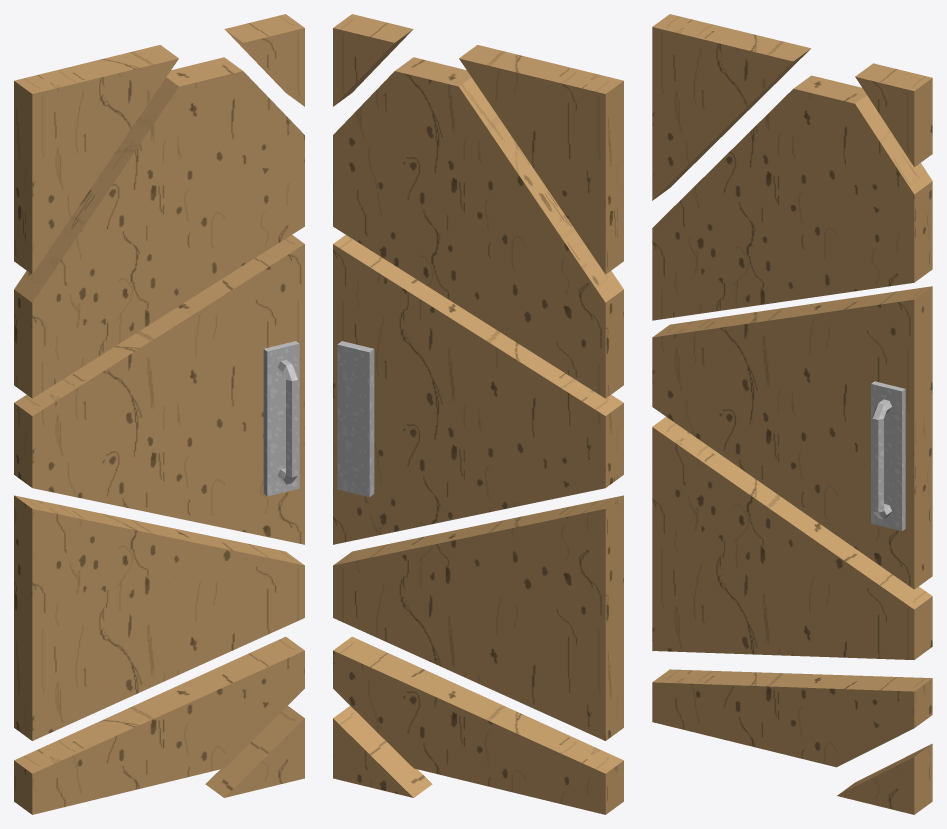
File: Door.fbx
3 renders of one model, left to right at view 1: azimuth 30°, elevation 25°; view 2: azimuth 150°, elevation 25°; view 3: azimuth 330°, elevation 25°, orthographic. The views are drawn at different scales.
Parts seen in each view (by area): view 1: polySurface17, polySurface19, polySurface25, polySurface27, polySurface13, polySurface26, polySurface15, polySurface23, polySurface22; view 2: polySurface17, polySurface19, polySurface25, polySurface27, polySurface13, polySurface23, polySurface26, polySurface15; view 3: polySurface19, polySurface17, polySurface25, polySurface27, polySurface13, polySurface15, polySurface26, polySurface23, polySurface22.
Boxes of the visible parts, <box> form: polySurface17: <box>14,57,304,398</box>; polySurface19: <box>14,235,304,544</box>; polySurface25: <box>14,495,304,740</box>; polySurface27: <box>14,636,304,814</box>; polySurface13: <box>14,45,178,274</box>; polySurface26: <box>205,706,304,797</box>; polySurface15: <box>224,14,304,106</box>; polySurface23: <box>263,341,299,496</box>; polySurface22: <box>277,360,297,484</box>; polySurface17: <box>333,57,623,398</box>; polySurface19: <box>333,235,623,544</box>; polySurface25: <box>333,495,623,740</box>; polySurface27: <box>333,636,623,814</box>; polySurface13: <box>459,45,623,274</box>; polySurface23: <box>337,341,374,497</box>; polySurface26: <box>333,706,432,797</box>; polySurface15: <box>333,14,413,106</box>; polySurface19: <box>652,286,932,589</box>; polySurface17: <box>652,75,932,320</box>; polySurface25: <box>652,417,932,659</box>; polySurface27: <box>652,669,932,767</box>; polySurface13: <box>652,14,810,200</box>; polySurface15: <box>855,63,932,166</box>; polySurface26: <box>837,743,932,814</box>; polySurface23: <box>871,381,905,530</box>; polySurface22: <box>872,399,891,519</box>.
Size of the model in its own units: 195 by 514 by 48.52.
